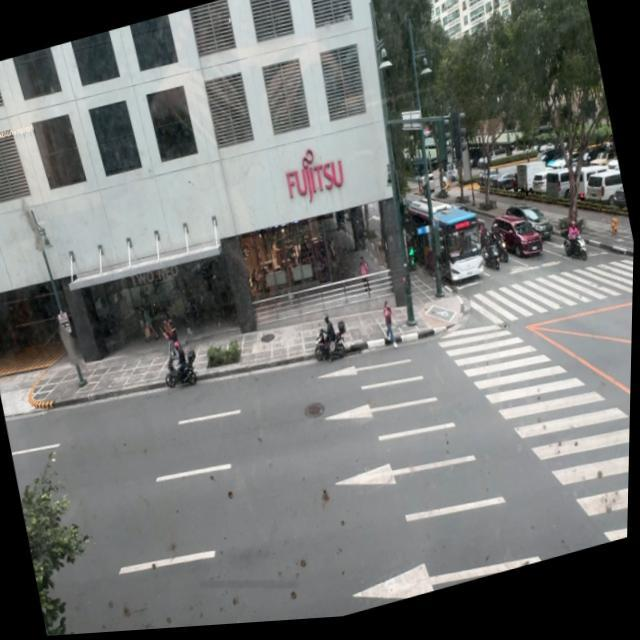jaywalking: (380, 298, 400, 349)
